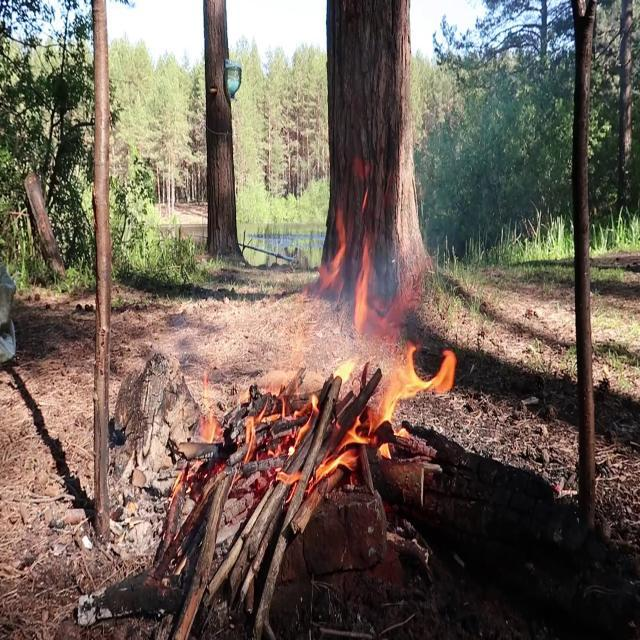Fire: (180, 266, 422, 468)
